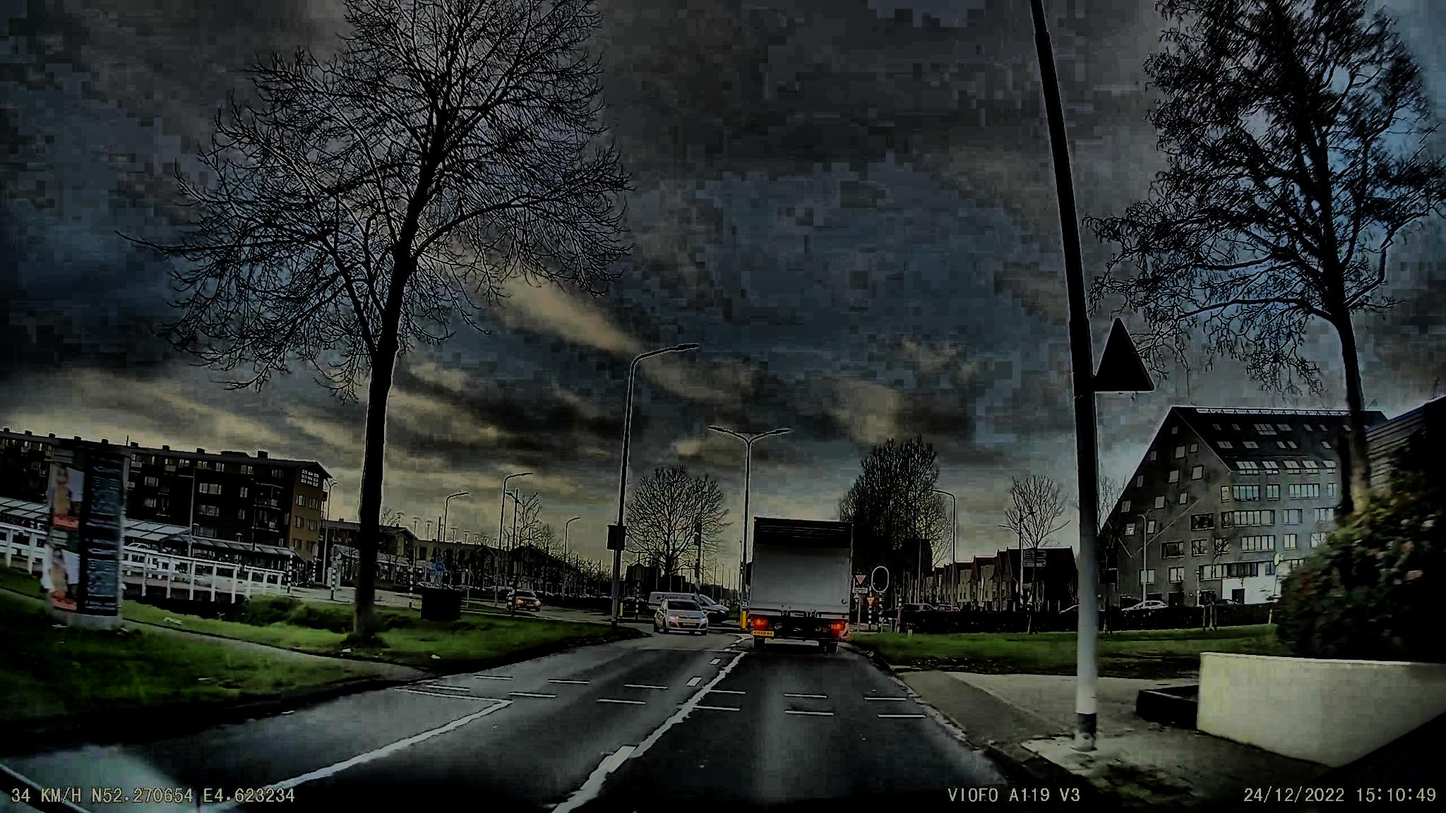Roads: (0, 630, 1122, 813)
